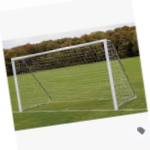goals: (9, 37, 137, 109)
